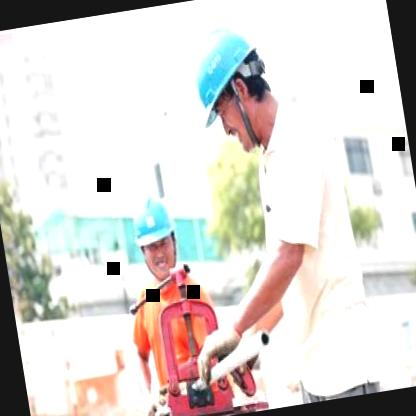helmet: (170, 3, 286, 164), (126, 186, 188, 284)
